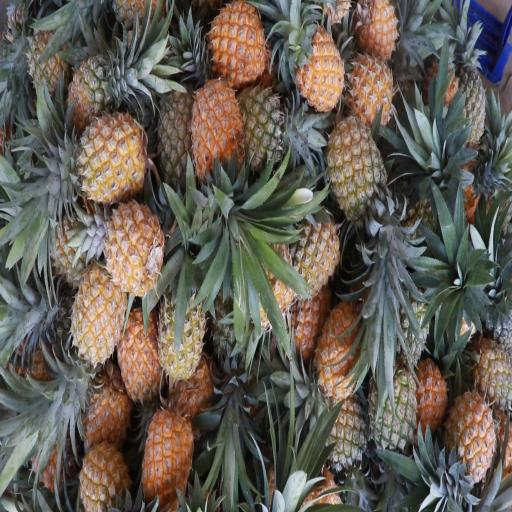------------------------------: (322, 91, 388, 220), (59, 41, 134, 131), (157, 267, 207, 383), (232, 74, 292, 170)
Pineapple - v8 v1: (56, 104, 150, 205), (184, 68, 248, 198), (101, 192, 164, 304), (139, 389, 196, 512), (67, 254, 129, 366), (308, 282, 366, 399), (443, 373, 493, 488), (287, 21, 344, 119), (283, 198, 340, 296), (112, 297, 163, 397), (337, 53, 401, 130), (208, 0, 267, 83), (73, 432, 131, 512)
